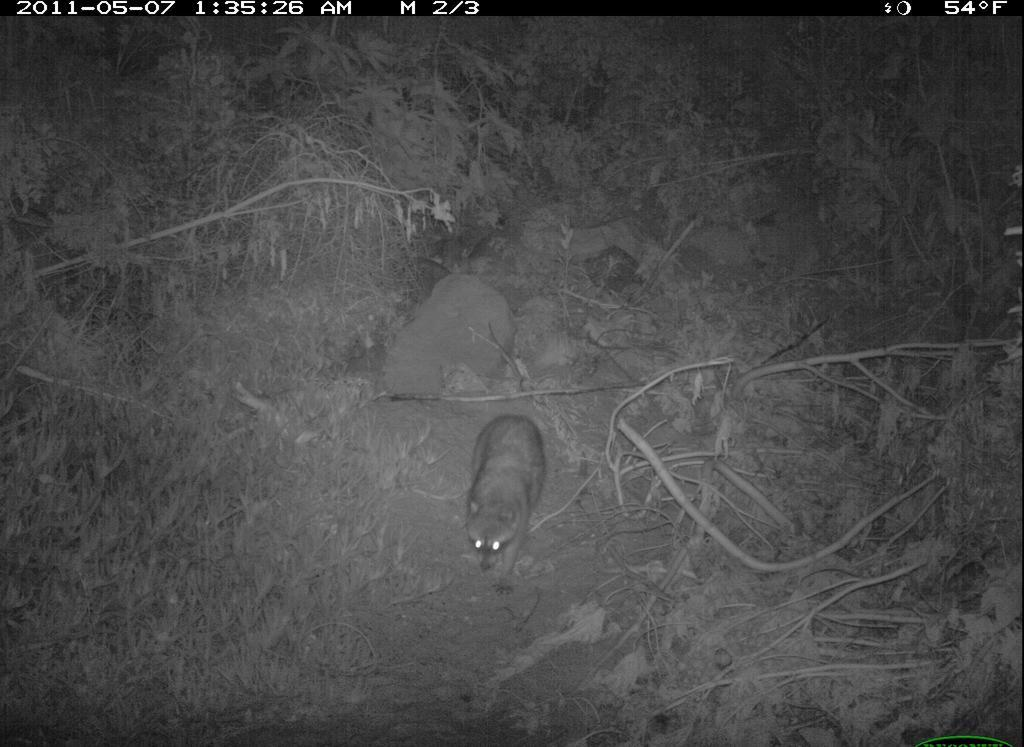raccoon: (446, 404, 564, 611)
